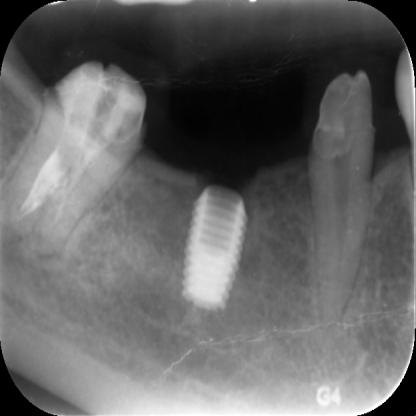Bicon: (155, 155, 261, 332)
